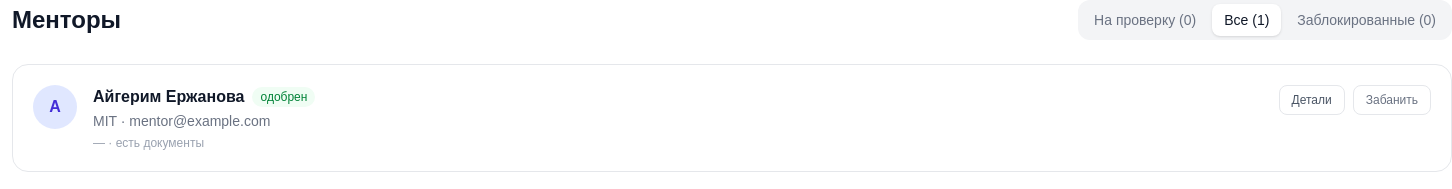
Test: CRMMentorsPage › bans a mentor after entering a reason and flips the badge to blocked
The image size is (1452, 189).
Check: the link "Айгерим Ержанова" is shown, box [93,85,244,109]
Click the button "Забанить". click: coordinates (1392, 100)
box: [1353,85,1431,115]
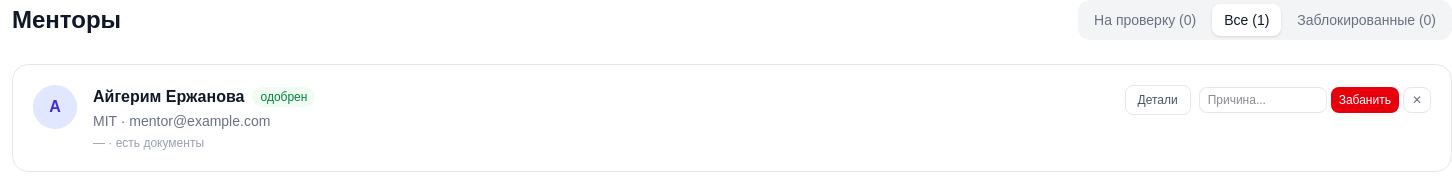
Type "Спам" into the field with placeholder "Причина...". click: coordinates (1263, 100)
box: [1199,87,1327,113]
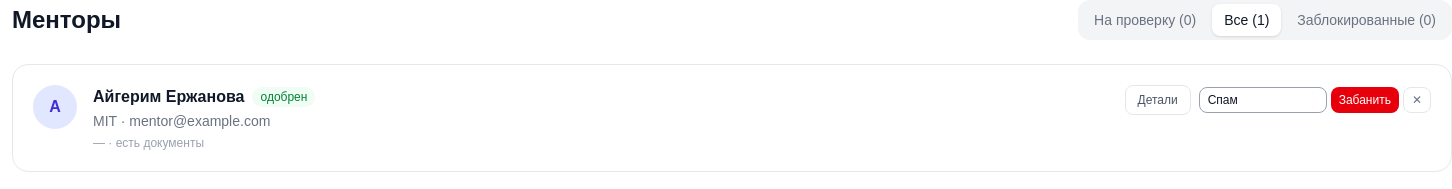
Click the button "Забанить". click: coordinates (1365, 100)
box: [1331,87,1399,113]
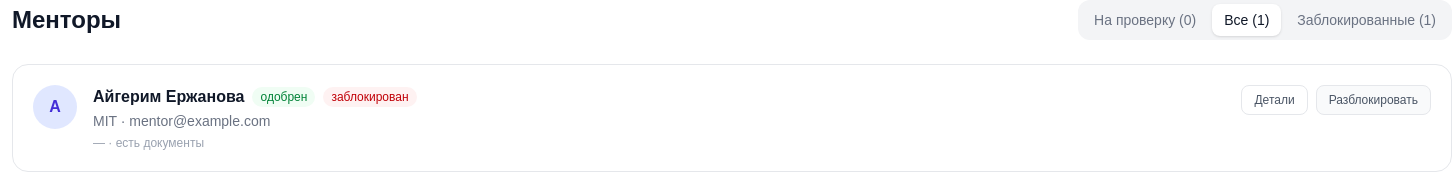
Check: the text "заблокирован" is shown, box [323,87,417,107]
